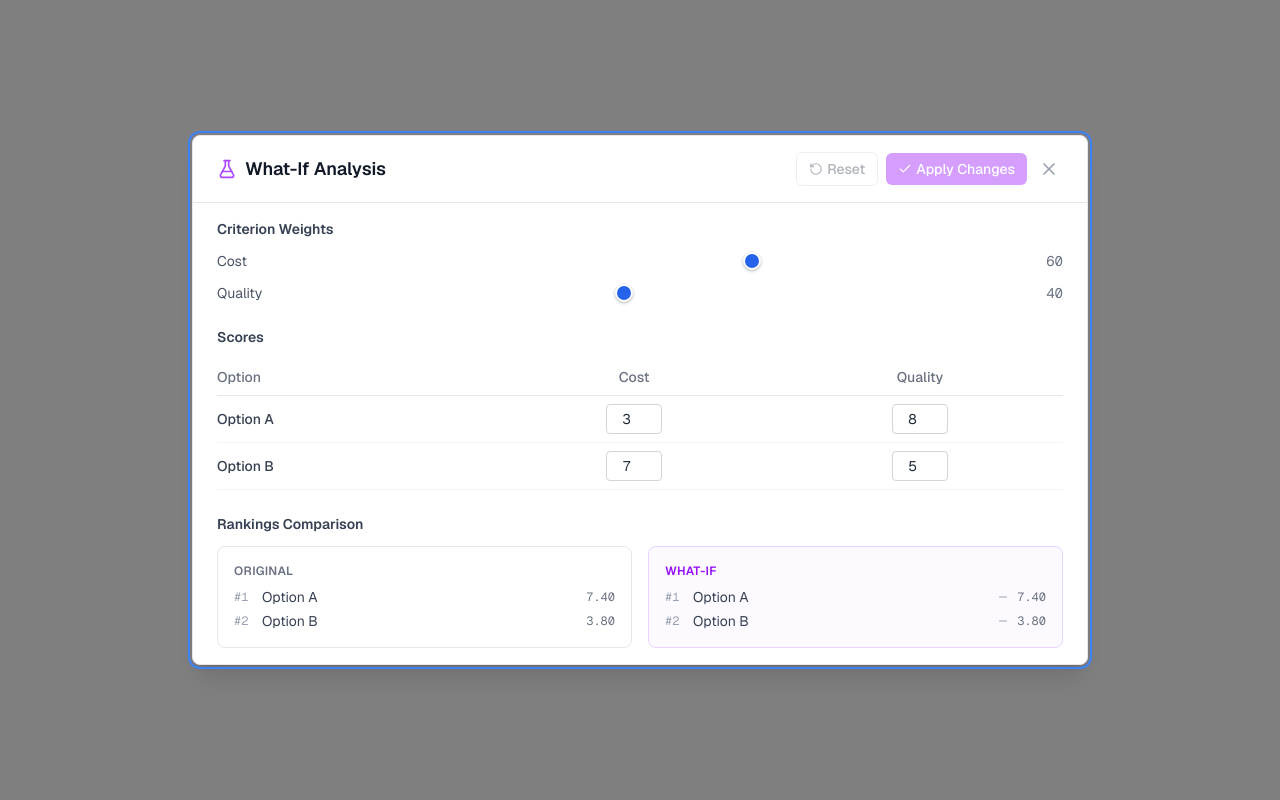
Scenario: WhatIfPanel › resets to original values when Reset is clicked
// Change weight
Set the slider named "cost weight" to "80" at (882, 261), box [357,258,1019,264]
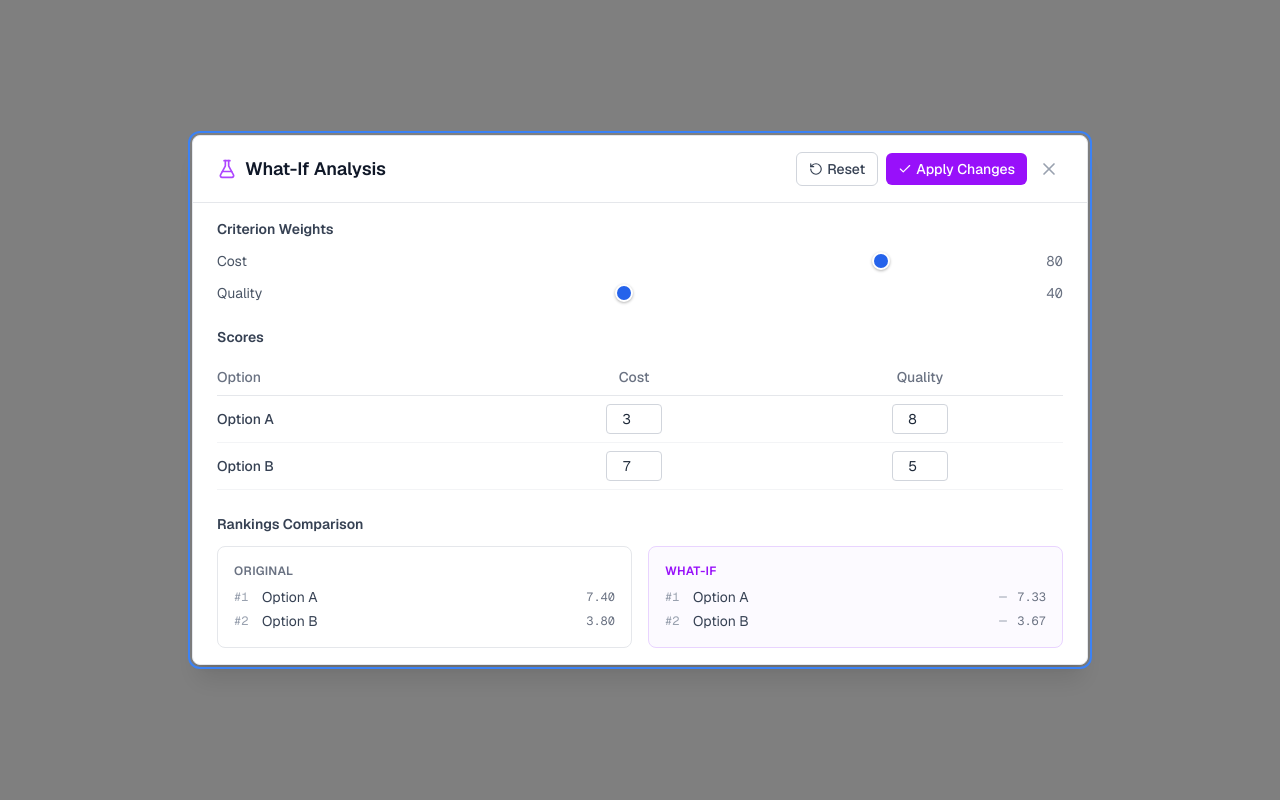
Check: the button with test id "whatif-apply" is enabled, box [886,153,1027,185]
// Click reset
Click the button with test id "whatif-reset" at (837, 169), box [796,152,878,186]
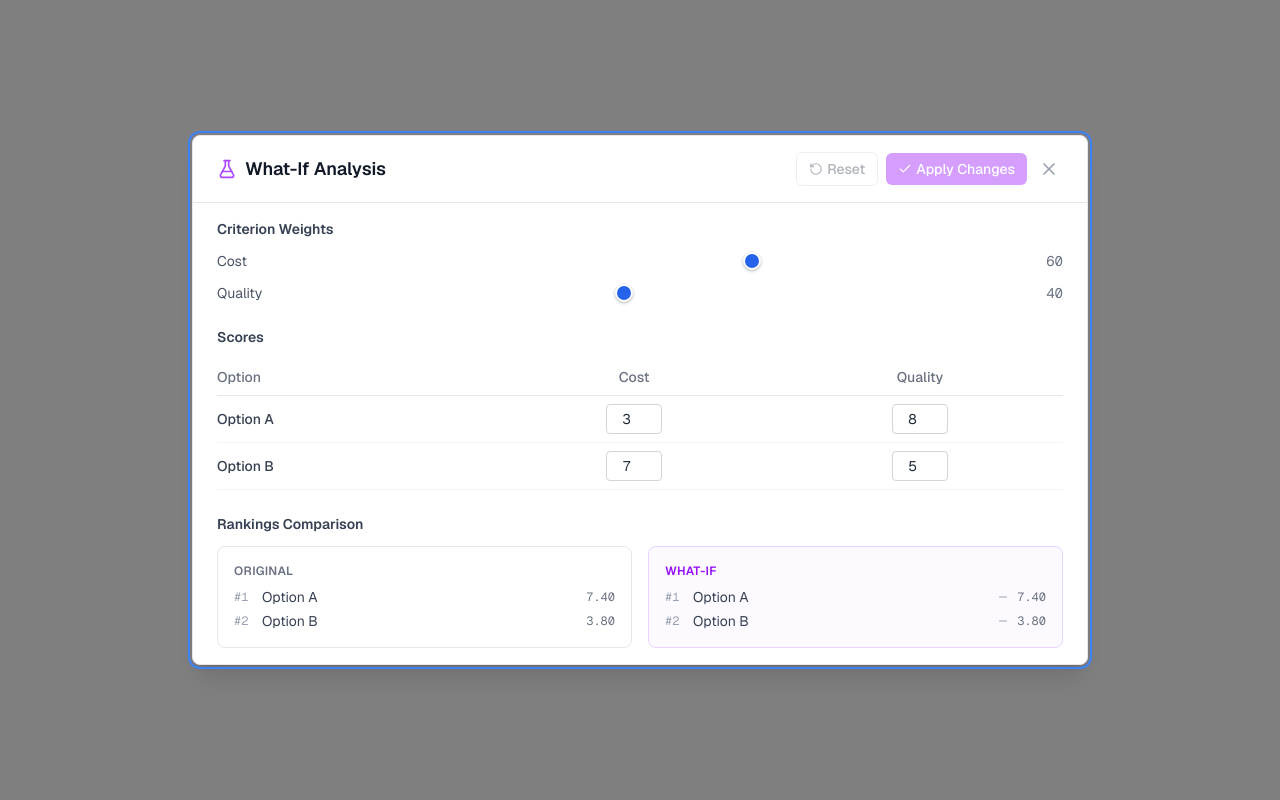
Check: the button with test id "whatif-apply" is disabled, box [886,153,1027,185]
